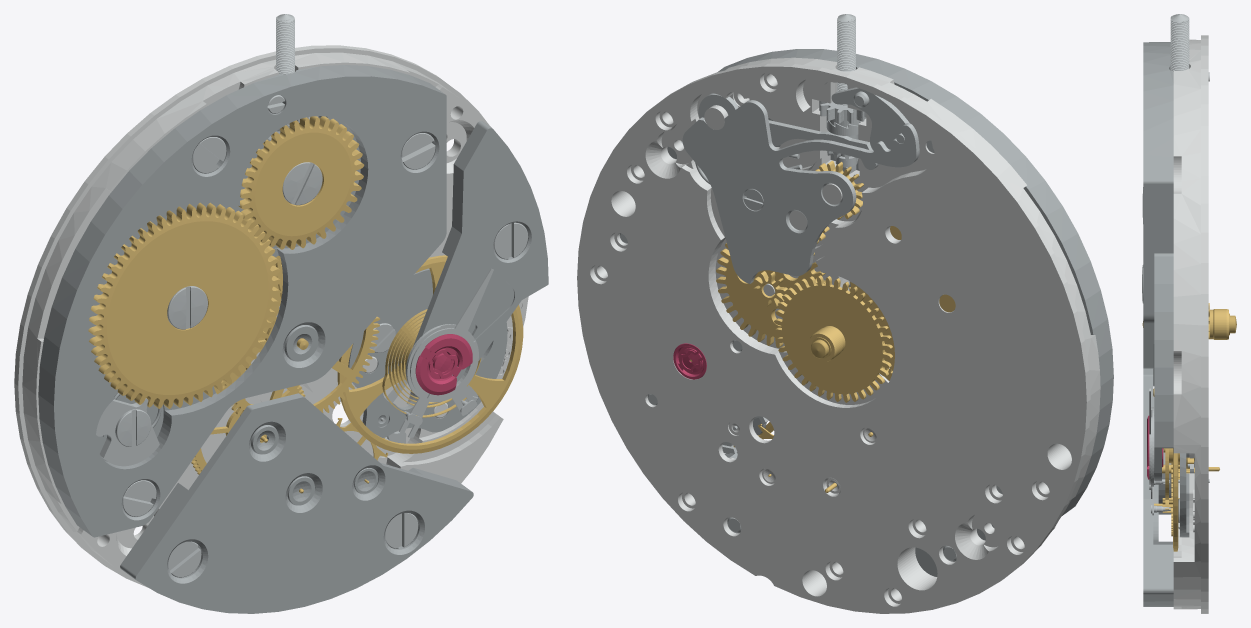
Rendered from ETA-6497-1-Movement-Gold-Jewels.glb.
3 views of the same model, side by side, from view 1: azimuth 30°, elevation 25°; view 2: azimuth 150°, elevation 25°; view 3: azimuth 270°, elevation 25° (orthographic). The views are drawn at different scales.
Visible parts, largest first — view 1: 105 Barrel bridge, 110 Train wheel bridge, 100 Main Plate, 415 Ratchet wheel, 121 Balancing bridge, 420 Crown wheel, 721 Balance, 125 Pallet bridge, 303 Two-piece regulator with pointer, Incabloc over, 201 Centre wheel, 425 Click (+11 smaller); view 2: 100 Main Plate, 445 Setting Lever Jumper, 105 Barrel bridge, 250 Hour Wheel, 260 Minute wheel, 443 Setting Lever, 435 Yoke, 401 Winding stem, Incabloc under, 180 Movement barrel complete, 410 Sliding pinion; view 3: 100 Main Plate, 105 Barrel bridge, 121 Balancing bridge, 110 Train wheel bridge, 401 Winding stem, 721 Balance, 125 Pallet bridge, 303 Two-piece regulator with pointer, 250 Hour Wheel, 220 Second wheel, Incabloc over.
Boxes of the visible parts, box(x1,y1,x2,y2) form: 105 Barrel bridge: box(38, 65, 446, 537); 110 Train wheel bridge: box(120, 393, 473, 613); 100 Main Plate: box(14, 45, 528, 587); 415 Ratchet wheel: box(88, 202, 281, 408); 121 Balancing bridge: box(413, 121, 548, 382); 420 Crown wheel: box(238, 116, 364, 249); 721 Balance: box(337, 255, 523, 453); 125 Pallet bridge: box(348, 268, 507, 437); 303 Two-piece regulator with pointer: box(399, 268, 493, 437); Incabloc over: box(415, 334, 472, 395); 201 Centre wheel: box(220, 261, 379, 415); 425 Click: box(96, 398, 159, 466); 100 Main Plate: box(577, 57, 1100, 613); 445 Setting Lever Jumper: box(682, 100, 919, 283); 105 Barrel bridge: box(717, 49, 1113, 515); 250 Hour Wheel: box(774, 275, 892, 402); 260 Minute wheel: box(716, 243, 825, 347); 443 Setting Lever: box(831, 87, 909, 150); 435 Yoke: box(698, 93, 878, 169); 401 Winding stem: box(835, 14, 857, 174); Incabloc under: box(673, 343, 706, 379); 180 Movement barrel complete: box(850, 226, 955, 370); 410 Sliding pinion: box(819, 101, 866, 127); 100 Main Plate: box(1173, 35, 1208, 613); 105 Barrel bridge: box(1143, 42, 1173, 386); 121 Balancing bridge: box(1154, 253, 1173, 481); 110 Train wheel bridge: box(1143, 368, 1173, 606); 401 Winding stem: box(1170, 14, 1189, 71); 721 Balance: box(1163, 448, 1194, 551); 125 Pallet bridge: box(1180, 453, 1189, 537); 303 Two-piece regulator with pointer: box(1149, 388, 1170, 515); 250 Hour Wheel: box(1209, 309, 1228, 339); 220 Second wheel: box(1162, 457, 1219, 536); Incabloc over: box(1147, 415, 1163, 479).
Size of the model in its own units: 37.2 by 40.6 by 6.1.
